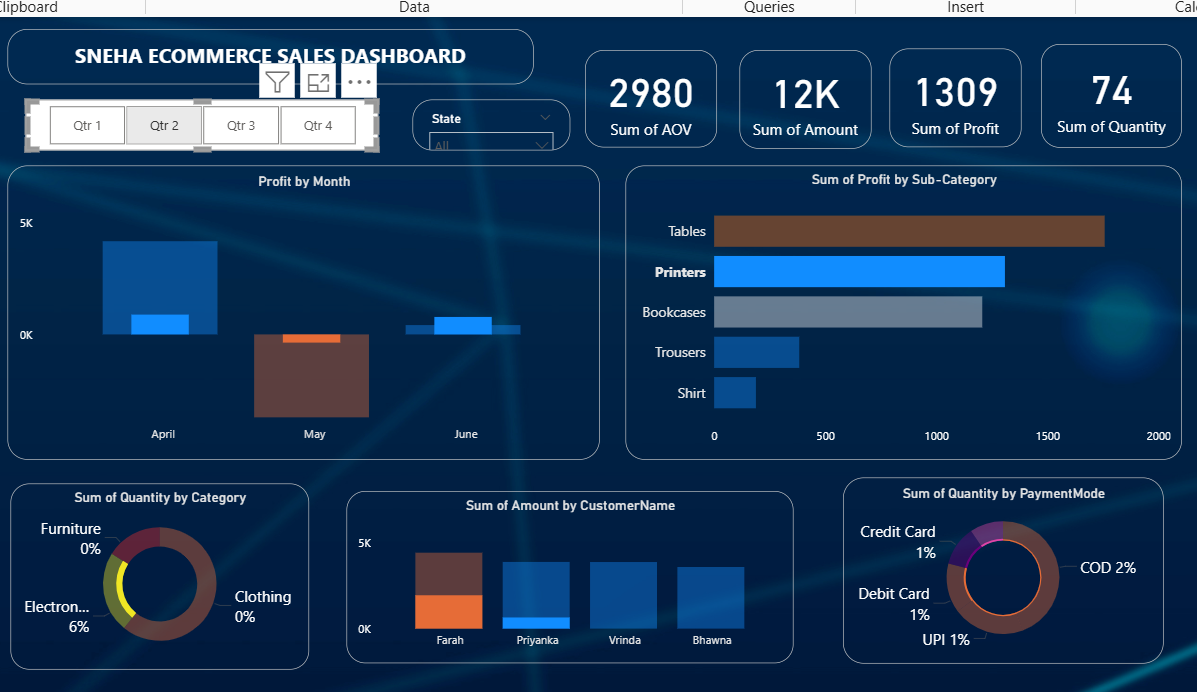

What the dashboard file says about the page in this screenshot:
{"tool":"powerbi","page":{"name":"Page 1","canvas":[1280,720],"ordinal":0},"visuals":[{"type":"columnChart","title":"Profit by Month ","fields":{"Y":["Details.Profit"],"Category":["Orders.Order Date.Variation.Date Hierarchy.Month"]},"box":[11.1,157.5,628.3,311.8],"z":0},{"type":"barChart","fields":{"Category":["Details.Sub-Category"],"Y":["Details.Profit"]},"box":[666.5,157.5,590.1,311.8],"z":1000},{"type":"donutChart","fields":{"Category":["Details.Category"],"Y":["Details.Quantity"]},"box":[14.3,494.7,316.5,197.2],"z":2000},{"type":"donutChart","fields":{"Y":["Details.Quantity"],"Category":["Details.PaymentMode"]},"box":[897.1,488.3,340,197],"z":3000},{"type":"card","fields":{"Values":["Details.Amount"]},"box":[787.4,35,140,105],"z":4000},{"type":"card","fields":{"Values":["Details.Quantity"]},"box":[1107.1,28.6,149.5,109.8],"z":5000},{"type":"card","fields":{"Values":["Details.Profit"]},"box":[946.4,33.4,140,105],"z":6000},{"type":"card","fields":{"Values":["Details.AOV"]},"box":[623.5,35,140,103.4],"z":7000},{"type":"columnChart","fields":{"Category":["Orders.CustomerName"],"Y":["Details.Amount"]},"box":[370.6,502.6,474,182.9],"z":8000},{"type":"textbox","box":[11.1,12.7,558.3,58.9],"z":9000},{"type":"slicer","fields":{"Values":["Orders.Order Date.Variation.Date Hierarchy.Quarter"]},"box":[30.2,87.5,373.8,54.1],"z":10000},{"type":"slicer","fields":{"Values":["Orders.State"]},"box":[440.6,87.5,167,54.1],"z":11000}]}

Visuals, with their boxes on the page's 1280x720 design canvas (x1, y1, x2, y2). These are canvas units, not pixel positions in the 1197x692 screenshot, which may show the page scaled, cropped or inside an application window:
"Profit by Month " columnChart: crop(11, 158, 639, 469)
barChart - Details.Sub-Category x Details.Profit: crop(666, 158, 1257, 469)
donutChart - Details.Category x Details.Quantity: crop(14, 495, 331, 692)
donutChart - Details.Quantity x Details.PaymentMode: crop(897, 488, 1237, 685)
card - Details.Amount: crop(787, 35, 927, 140)
card - Details.Quantity: crop(1107, 29, 1257, 138)
card - Details.Profit: crop(946, 33, 1086, 138)
card - Details.AOV: crop(624, 35, 764, 138)
columnChart - Orders.CustomerName x Details.Amount: crop(371, 503, 845, 686)
textbox: crop(11, 13, 569, 72)
slicer - Orders.Order Date.Variation.Date Hierarchy.Quarter: crop(30, 88, 404, 142)
slicer - Orders.State: crop(441, 88, 608, 142)
